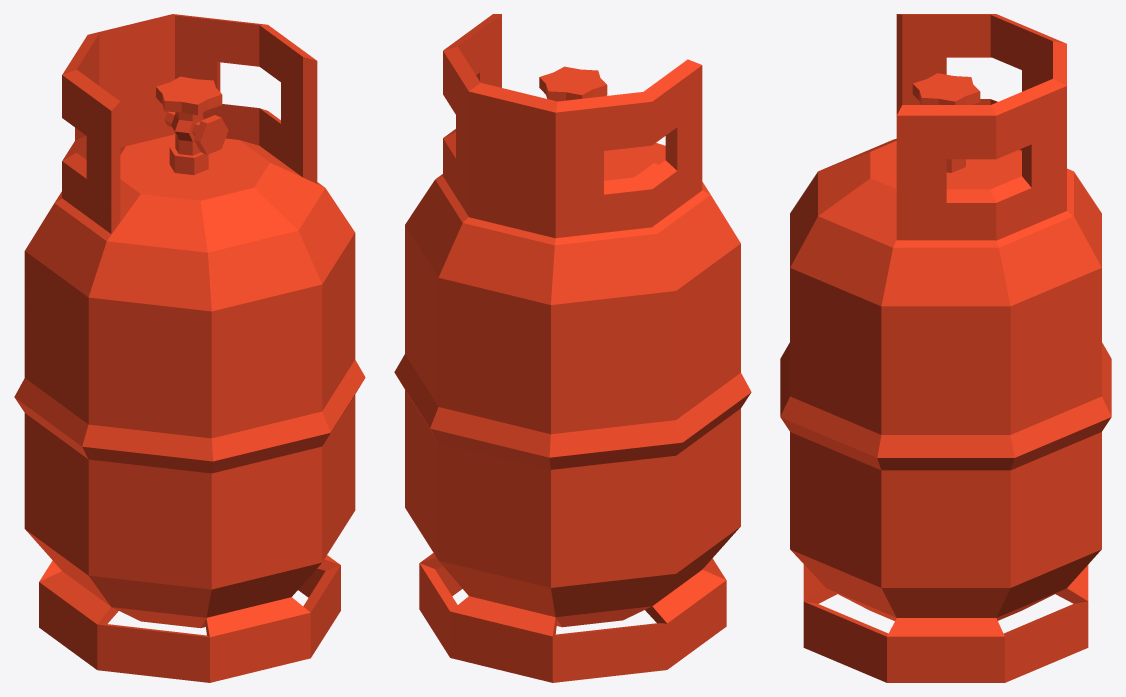
The model's file is SM_Gas_Bomb_B_City.fbx.
3 renders of one model, left to right at view 1: azimuth 30°, elevation 25°; view 2: azimuth 150°, elevation 25°; view 3: azimuth 270°, elevation 25°, orthographic.
Visible parts, largest first — view 1: SM_Gas_Bomb_B_City; view 2: SM_Gas_Bomb_B_City; view 3: SM_Gas_Bomb_B_City.
Boxes of the visible parts, x1,y1,x2,y2 form: SM_Gas_Bomb_B_City: [14, 14, 365, 682]; SM_Gas_Bomb_B_City: [394, 14, 751, 682]; SM_Gas_Bomb_B_City: [780, 14, 1111, 682].
Size of the model in its own units: 0.2584 by 0.4841 by 0.2584.
